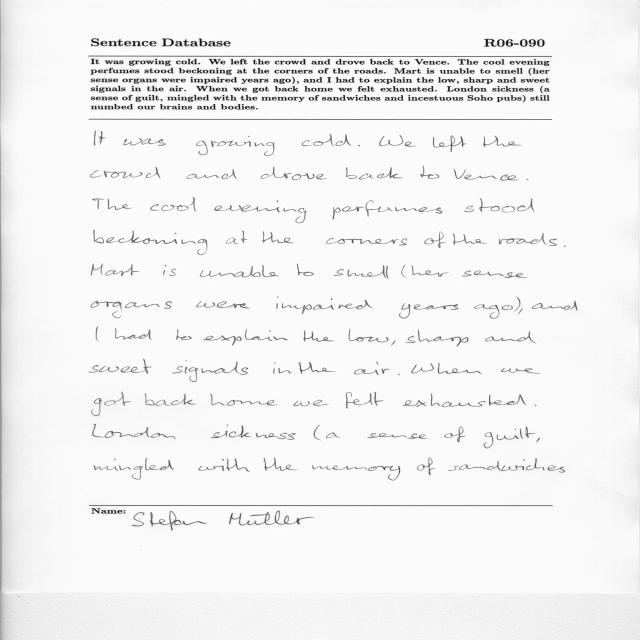word: (94, 230, 207, 255), (333, 200, 442, 220), (214, 201, 307, 224), (449, 458, 565, 473), (94, 458, 174, 479), (173, 360, 249, 382), (276, 297, 373, 314), (403, 394, 526, 407), (196, 136, 274, 156), (312, 465, 400, 481), (91, 301, 172, 318), (203, 329, 288, 345), (211, 424, 296, 440), (93, 424, 176, 439), (405, 330, 469, 347), (484, 427, 535, 448), (464, 198, 534, 213), (200, 265, 279, 277), (89, 359, 152, 374), (92, 392, 131, 416), (399, 304, 458, 319), (260, 167, 327, 180), (210, 394, 278, 406), (411, 363, 482, 374), (91, 167, 161, 178), (454, 169, 518, 181), (334, 265, 388, 279), (499, 233, 557, 246), (346, 167, 403, 180), (150, 197, 196, 212), (198, 459, 250, 472), (145, 393, 196, 406), (326, 238, 407, 246), (485, 332, 536, 344), (346, 392, 383, 408), (302, 134, 351, 146), (474, 304, 513, 319), (92, 264, 140, 276), (433, 135, 466, 152), (462, 270, 527, 278), (349, 329, 389, 342), (186, 169, 237, 179), (354, 362, 390, 375), (483, 135, 521, 147), (532, 301, 577, 311), (380, 135, 416, 147), (412, 265, 448, 277), (196, 301, 250, 309), (299, 362, 335, 374), (93, 199, 132, 210), (264, 458, 297, 471), (453, 233, 486, 245), (115, 328, 151, 339), (368, 433, 429, 439), (262, 232, 294, 243), (123, 138, 166, 146), (425, 232, 446, 248), (304, 331, 334, 342), (444, 427, 466, 442), (417, 458, 435, 475), (226, 231, 247, 244), (421, 166, 440, 179), (293, 400, 329, 406), (273, 363, 292, 374), (297, 264, 314, 276), (501, 368, 540, 373), (176, 329, 192, 340), (95, 131, 106, 146), (163, 265, 176, 276), (515, 297, 521, 312), (314, 425, 320, 440), (326, 433, 340, 438), (401, 265, 406, 277), (96, 327, 99, 342), (518, 309, 523, 315), (392, 340, 396, 346), (536, 438, 540, 443), (564, 245, 566, 247), (358, 145, 360, 146), (398, 374, 400, 375), (527, 179, 528, 180), (535, 405, 536, 406)
